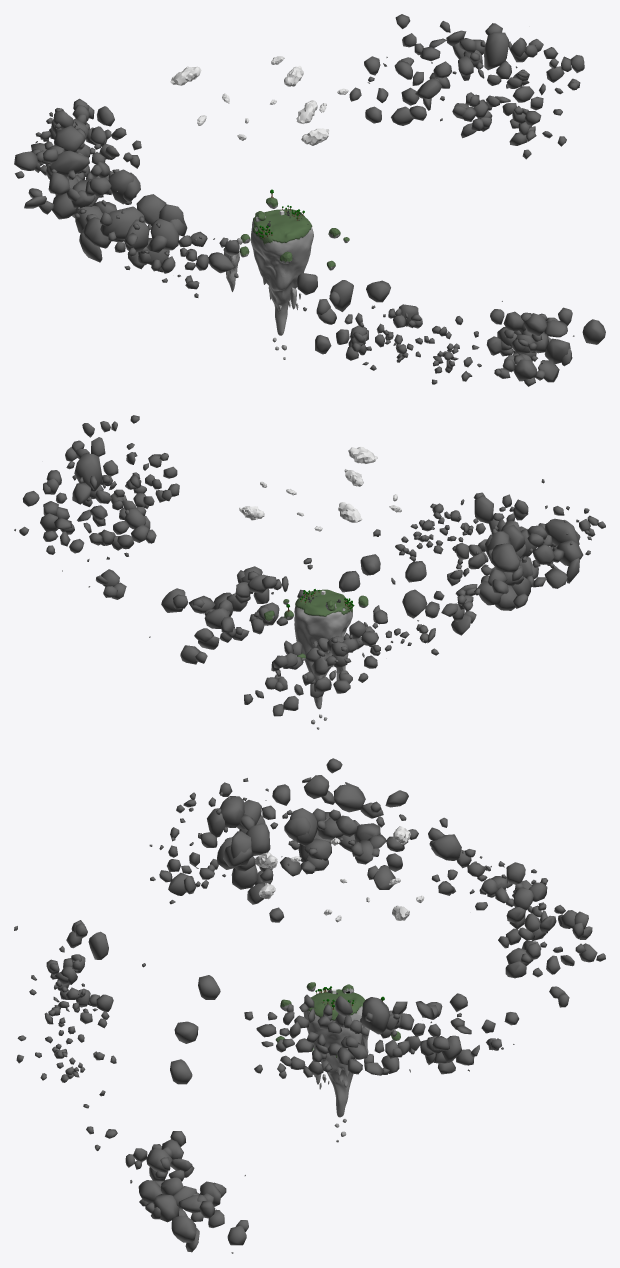
File: cave map UPDATE.fbx
3 views of the same model, one above another, from view 1: azimuth 30°, elevation 25°; view 2: azimuth 150°, elevation 25°; view 3: azimuth 270°, elevation 25° (orthographic). The views are drawn at different scales.
Visible parts, largest first — view 1: Cube.677, Cube.061, Cube, Cube.089; view 2: Cube.677, Cube.061, Cube, Cube.089; view 3: Cube.677, Cube.061, Cube, Cube.089.
Part boxes in pixels (x1=…): Cube.677: x1=14, y1=98, x2=605, y2=386; Cube.061: x1=349, y1=14, x2=584, y2=159; Cube: x1=250, y1=209, x2=313, y2=335; Cube.089: x1=170, y1=56, x2=348, y2=145; Cube.677: x1=149, y1=479, x2=605, y2=716; Cube.061: x1=14, y1=415, x2=179, y2=599; Cube: x1=294, y1=589, x2=352, y2=709; Cube.089: x1=239, y1=446, x2=401, y2=531; Cube.677: x1=14, y1=758, x2=605, y2=1253; Cube.061: x1=244, y1=993, x2=519, y2=1078; Cube: x1=303, y1=989, x2=365, y2=1117; Cube.089: x1=254, y1=826, x2=424, y2=922.
Bounding box in the file's own units: 37102 × 19325 × 34604.
